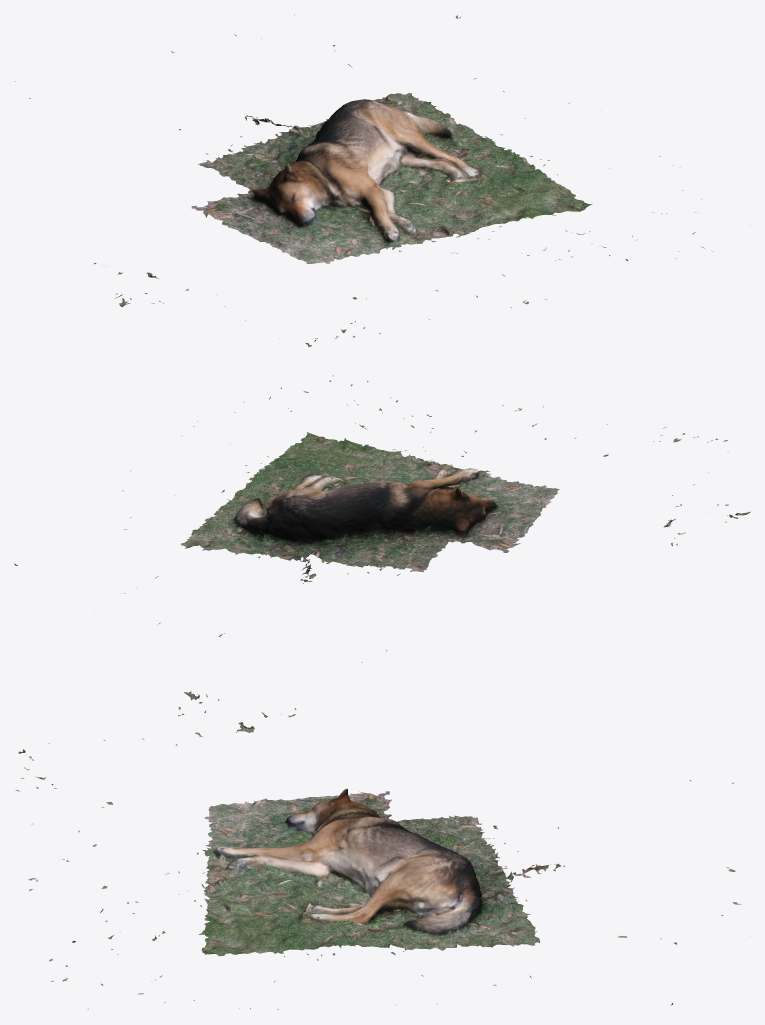
Rendered from dog.obj.
3 views of the same model, one above another, from view 1: azimuth 30°, elevation 25°; view 2: azimuth 150°, elevation 25°; view 3: azimuth 270°, elevation 25° (orthographic). The views are drawn at different scales.
Visible parts, largest first — view 1: babo; view 2: babo; view 3: babo.
Part boxes in pixels (x1,y1,x2,y2): babo: [15, 14, 750, 346]; babo: [14, 375, 750, 662]; babo: [15, 691, 750, 1009].
Bounding box in the file's own units: 8.12 × 0.6857 × 8.61.
1 material, 1 textured.
